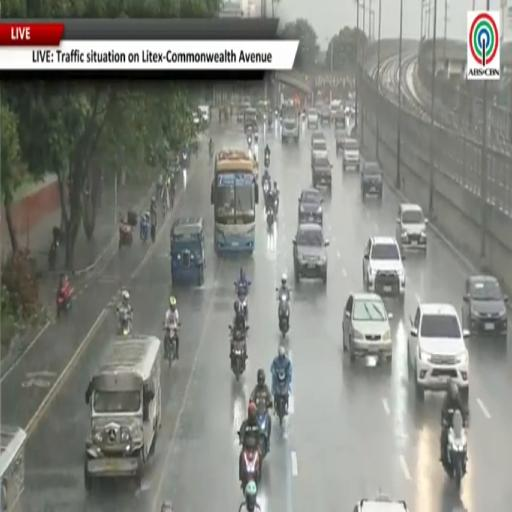bus: (211, 150, 258, 252)
car: (408, 303, 469, 403), (343, 293, 392, 362), (462, 276, 508, 340), (363, 236, 405, 303), (293, 223, 329, 283), (396, 203, 428, 251), (298, 188, 323, 226), (360, 162, 383, 200), (353, 496, 408, 511), (312, 154, 332, 190), (343, 138, 360, 171), (311, 138, 328, 165), (244, 107, 258, 134), (311, 131, 326, 150), (237, 102, 250, 123), (319, 103, 331, 125), (312, 138, 327, 155), (336, 130, 346, 155), (198, 105, 210, 125), (307, 108, 318, 129), (330, 100, 342, 119), (334, 110, 345, 129), (192, 111, 201, 129)
jeepney: (84, 335, 162, 490), (171, 217, 205, 285), (0, 425, 26, 511), (244, 107, 258, 134)
motorcycle: (444, 411, 467, 489), (241, 440, 261, 509), (230, 326, 248, 381), (239, 472, 260, 511), (274, 368, 288, 425), (234, 280, 251, 324), (164, 325, 179, 366), (56, 281, 73, 317), (48, 227, 62, 270), (257, 408, 268, 458), (278, 294, 290, 335), (117, 308, 131, 335), (119, 222, 132, 249), (140, 212, 150, 243), (48, 240, 58, 270), (262, 175, 271, 203), (181, 152, 188, 187), (267, 201, 275, 228), (150, 224, 156, 243), (264, 152, 270, 168), (264, 154, 270, 169)
truck: (281, 101, 300, 142)
